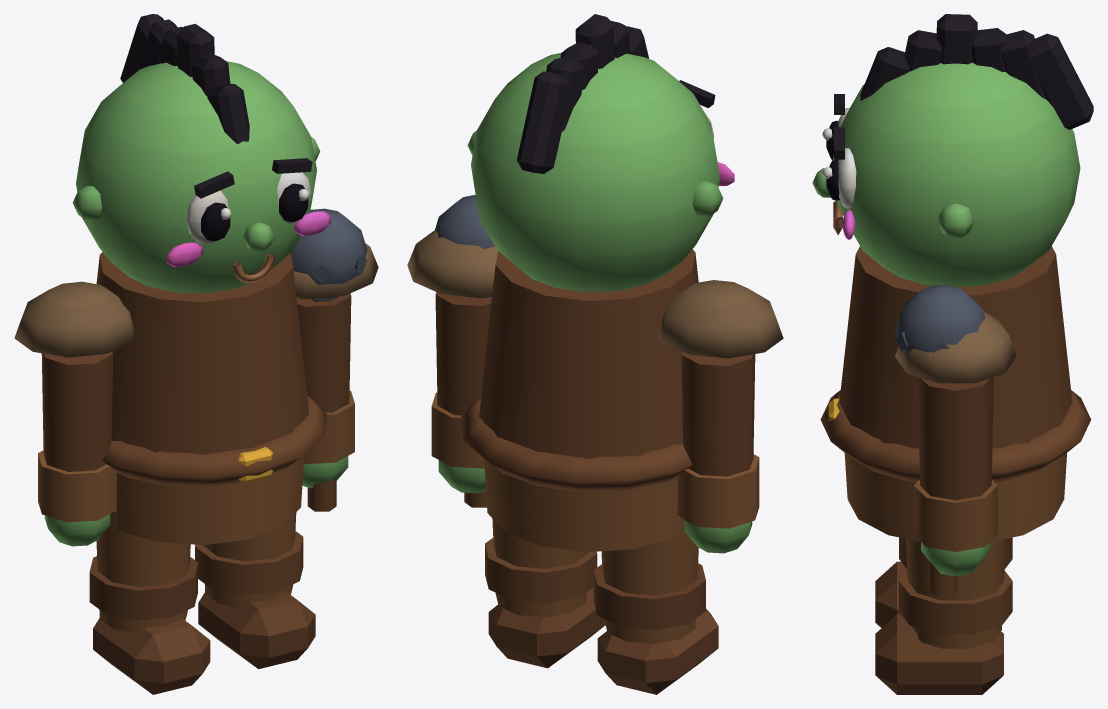
File: hero_gorm.glb
3 views of the same model, side by side, from view 1: azimuth 30°, elevation 25°; view 2: azimuth 150°, elevation 25°; view 3: azimuth 270°, elevation 25° (orthographic). The views are drawn at different scales.
Visible parts, largest first — view 1: body_t0_palette, arml_t0_palette, legl_t0_palette, armr_t0_palette, legr_t0_palette; view 2: body_t0_palette, arml_t0_palette, armr_t0_palette, legl_t0_palette, legr_t0_palette; view 3: body_t0_palette, armr_t0_palette, legr_t0_palette, legl_t0_palette.
Part boxes in pixels (x1,y1,x2,y2): body_t0_palette: (72,14,330,544); arml_t0_palette: (14,281,136,546); legl_t0_palette: (89,511,210,694); armr_t0_palette: (291,208,378,511); legr_t0_palette: (195,513,315,669); body_t0_palette: (460,14,734,552); arml_t0_palette: (657,280,783,553); armr_t0_palette: (407,195,497,507); legl_t0_palette: (593,517,718,694); legr_t0_palette: (485,518,605,668); body_t0_palette: (812,14,1093,541); armr_t0_palette: (895,285,1016,594); legr_t0_palette: (875,539,1012,694); legl_t0_palette: (875,537,1012,627).
Size of the model in its own units: 0.3022 by 0.5233 by 0.2077.
